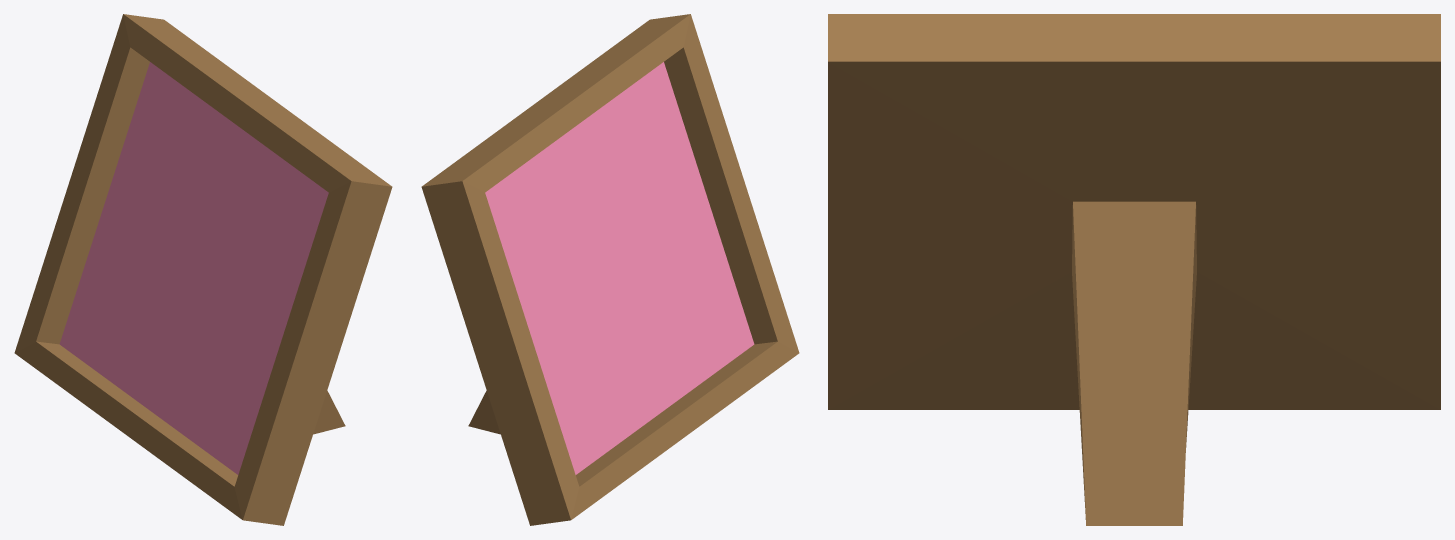
Rendered from Picture Frame_18.fbx.
3 views of the same model, side by side, from view 1: azimuth 30°, elevation 25°; view 2: azimuth 150°, elevation 25°; view 3: azimuth 270°, elevation 25° (orthographic). The views are drawn at different scales.
Parts seen in each view (by area): view 1: Picture Frame_18; view 2: Picture Frame_18; view 3: Picture Frame_18.
Part boxes in pixels (x1=…): Picture Frame_18: x1=14, y1=14, x2=392, y2=525; Picture Frame_18: x1=421, y1=14, x2=799, y2=525; Picture Frame_18: x1=828, y1=14, x2=1440, y2=525.
Size of the model in its own units: 0.1152 by 0.187 by 0.229.
